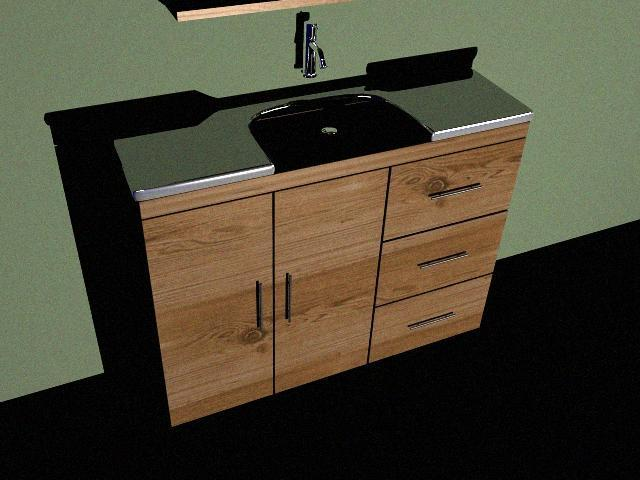cabinet_door: (158, 206, 274, 409), (274, 179, 378, 377), (386, 152, 517, 226), (378, 227, 500, 290), (370, 291, 486, 344)
handle: (428, 182, 486, 203), (418, 252, 473, 272), (277, 269, 296, 322), (253, 276, 267, 336), (408, 313, 456, 329)
